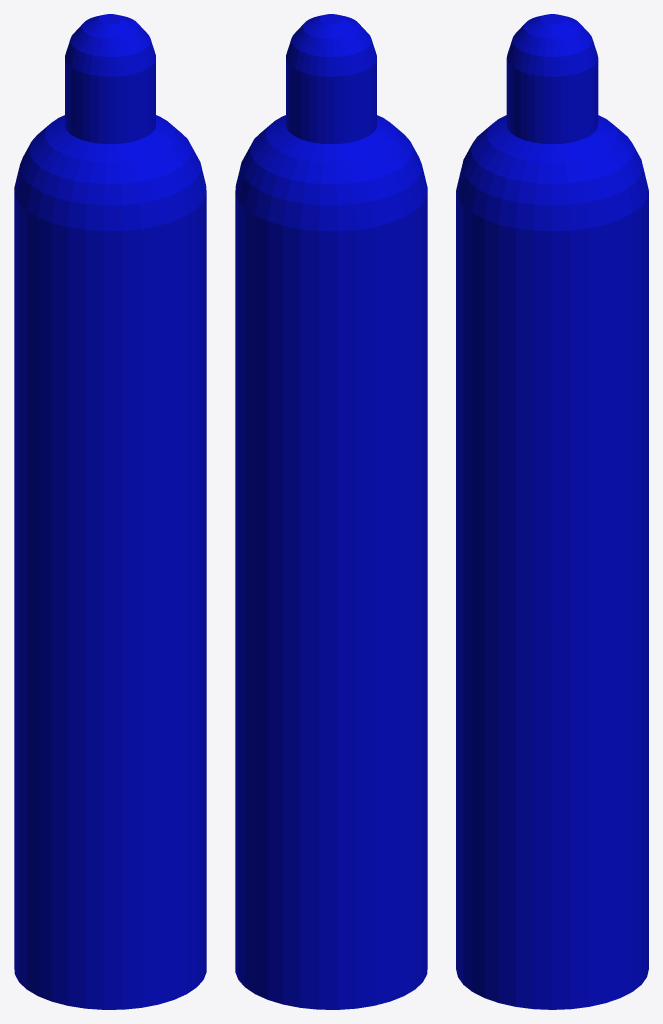
Rendered from acetylene tank.fbx.
3 views of the same model, side by side, from view 1: azimuth 30°, elevation 25°; view 2: azimuth 150°, elevation 25°; view 3: azimuth 270°, elevation 25° (orthographic).
Parts seen in each view (by area): view 1: Cylinder, Cylinder.001; view 2: Cylinder, Cylinder.001; view 3: Cylinder, Cylinder.001.
Boxes of the visible parts, x1,y1,x2,y2 form: Cylinder: [14, 115, 206, 1009]; Cylinder.001: [65, 14, 155, 144]; Cylinder: [235, 115, 427, 1009]; Cylinder.001: [286, 14, 376, 144]; Cylinder: [456, 115, 648, 1009]; Cylinder.001: [506, 14, 598, 144].
Size of the model in its own units: 22 by 120 by 22.
